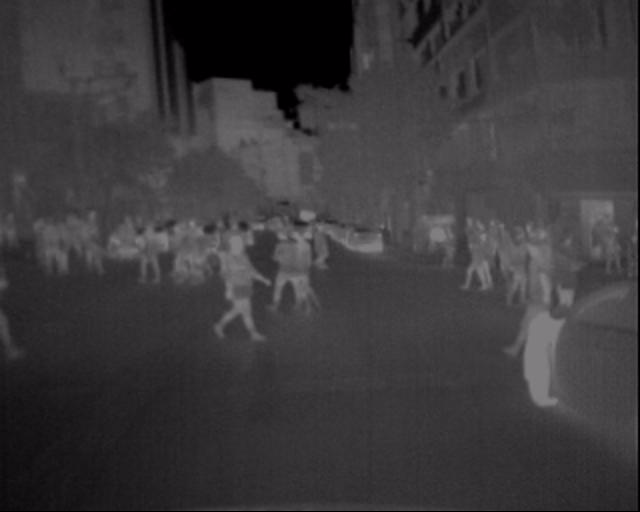person: (216, 221, 275, 354), (435, 217, 532, 277), (540, 220, 631, 274), (270, 224, 315, 323), (286, 222, 324, 321), (204, 207, 243, 296), (166, 212, 199, 295), (133, 220, 163, 295), (481, 217, 511, 291), (32, 226, 60, 288), (455, 224, 485, 279), (70, 221, 94, 281)
